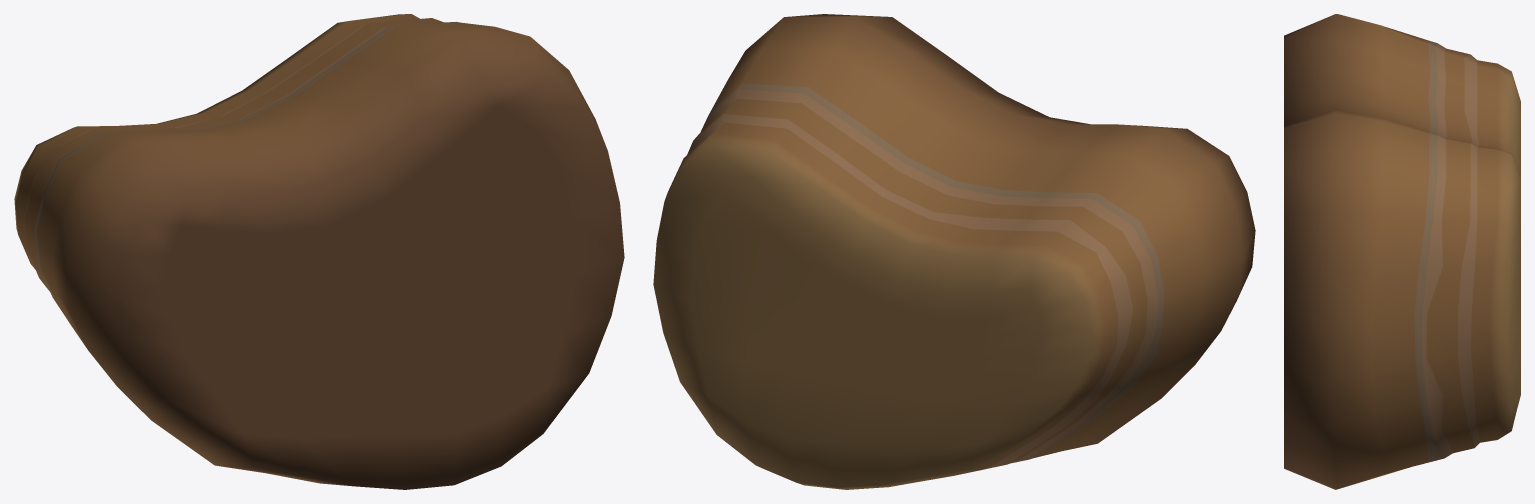
Rendered from SandstoneRockTiny.001.glb.
3 views of the same model, side by side, from view 1: azimuth 30°, elevation 25°; view 2: azimuth 150°, elevation 25°; view 3: azimuth 270°, elevation 25° (orthographic). The views are drawn at different scales.
Visible parts, largest first — view 1: SandstoneRockTiny.001; view 2: SandstoneRockTiny.001; view 3: SandstoneRockTiny.001.
Part boxes in pixels (left/top/right/bottom): SandstoneRockTiny.001: left=14, top=14, right=624, bottom=489; SandstoneRockTiny.001: left=653, top=14, right=1255, bottom=489; SandstoneRockTiny.001: left=1284, top=14, right=1520, bottom=489.
Size of the model in its own units: 4206 by 3214 by 1849.
